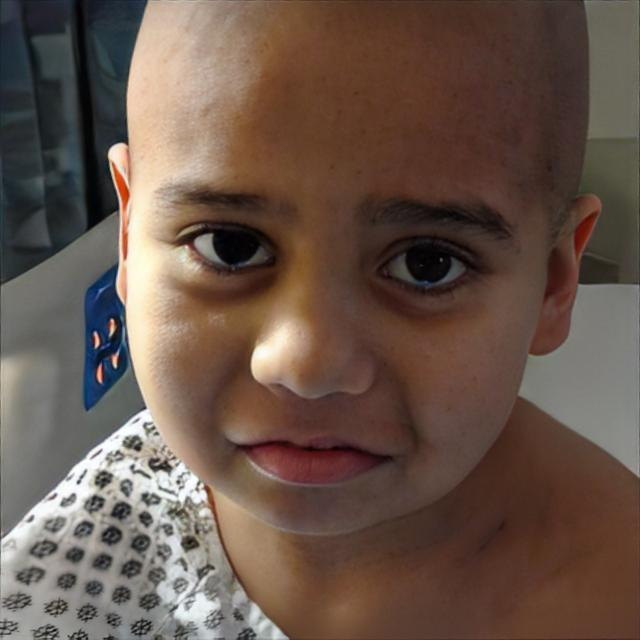disgust: (122, 0, 538, 541)
